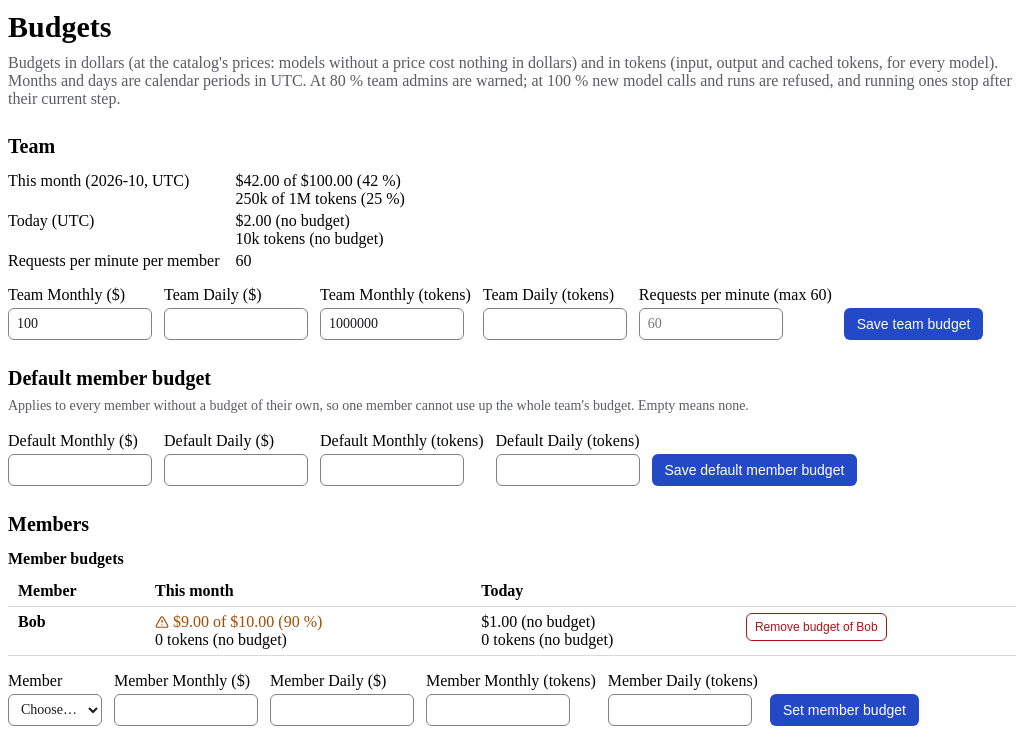
Test: team budgets page (KOBE-42) › refuses a rate above the site's and amounts that are not numbers
Type "61" into the field labelled "Requests per minute (max 60)". click: coordinates (711, 324)
box: [639,308,783,340]
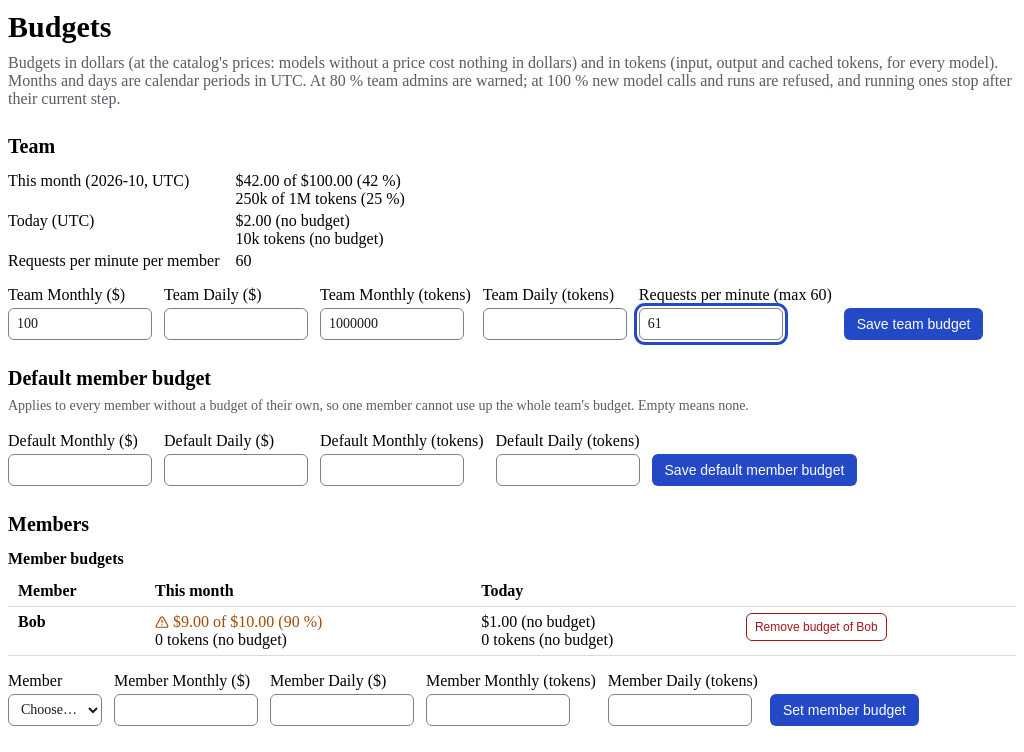
Click the button "Save team budget". click: coordinates (914, 324)
box: [844,308,983,340]
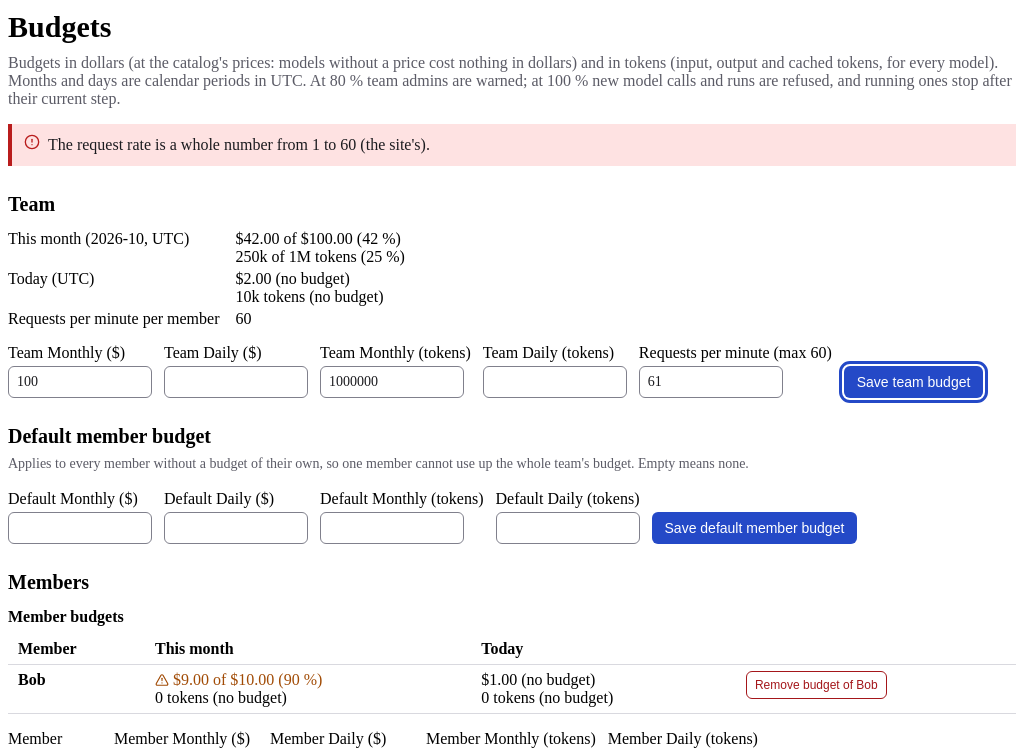
Check: the message shows "1 to 60", box [48,136,430,152]
Type "x" into the field labelled "Team Monthly (tokens)". click: coordinates (392, 382)
box: [320,366,464,398]
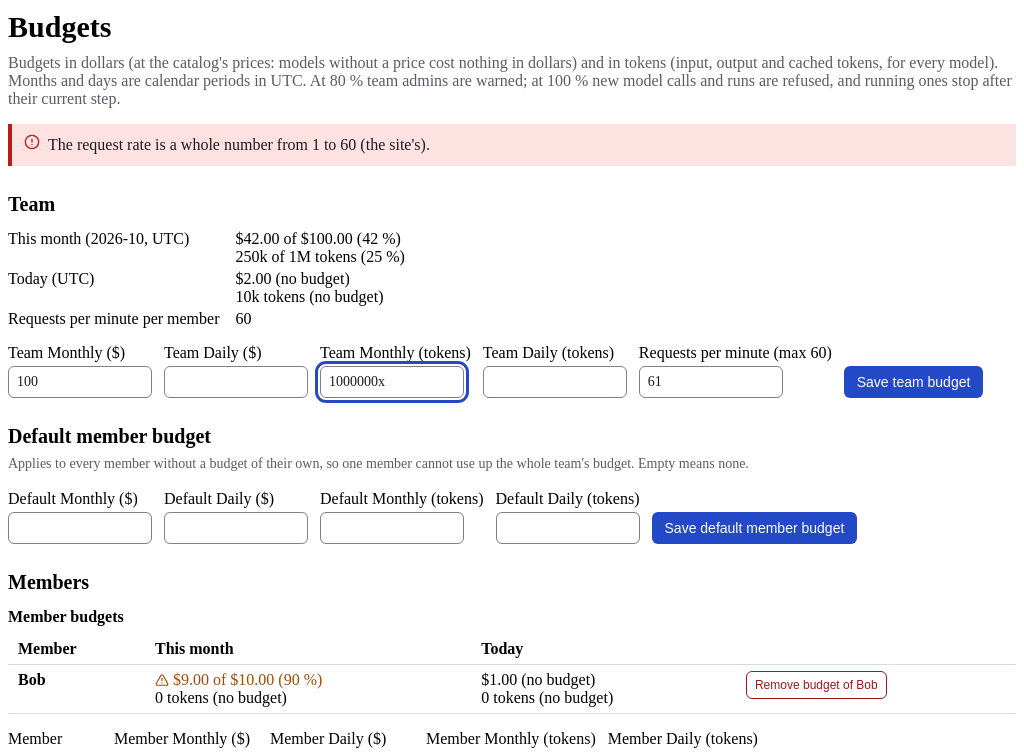
Click the button "Save team budget". click: coordinates (914, 382)
box: [844,366,983,398]
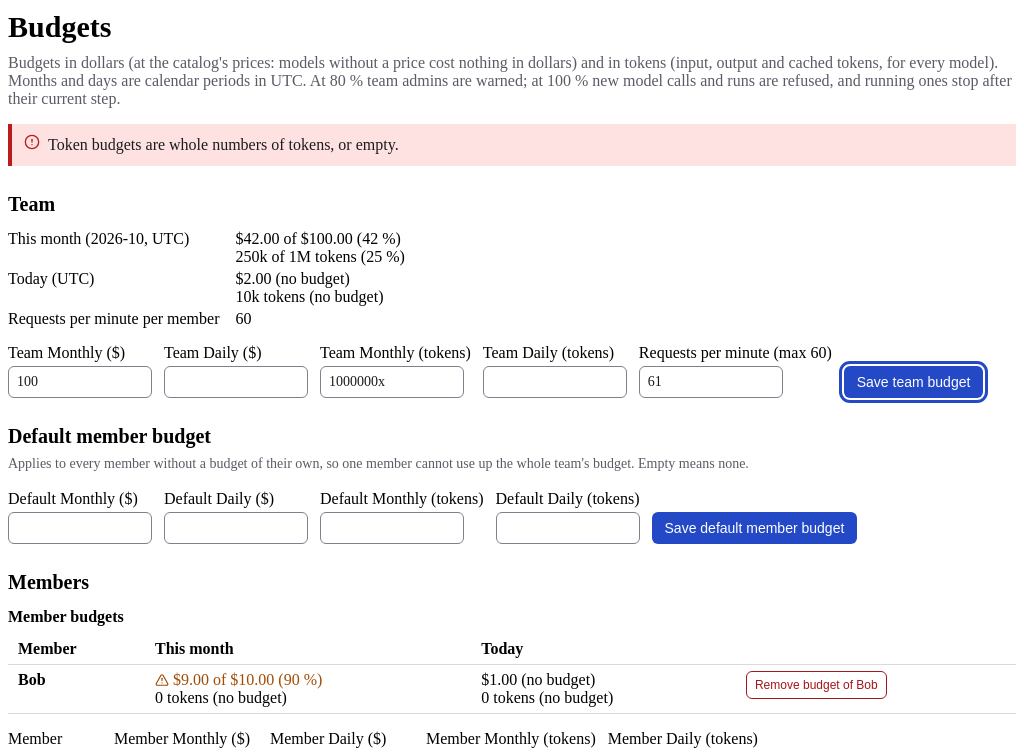
Check: the message shows "whole numbers of tokens", box [48,136,399,152]
